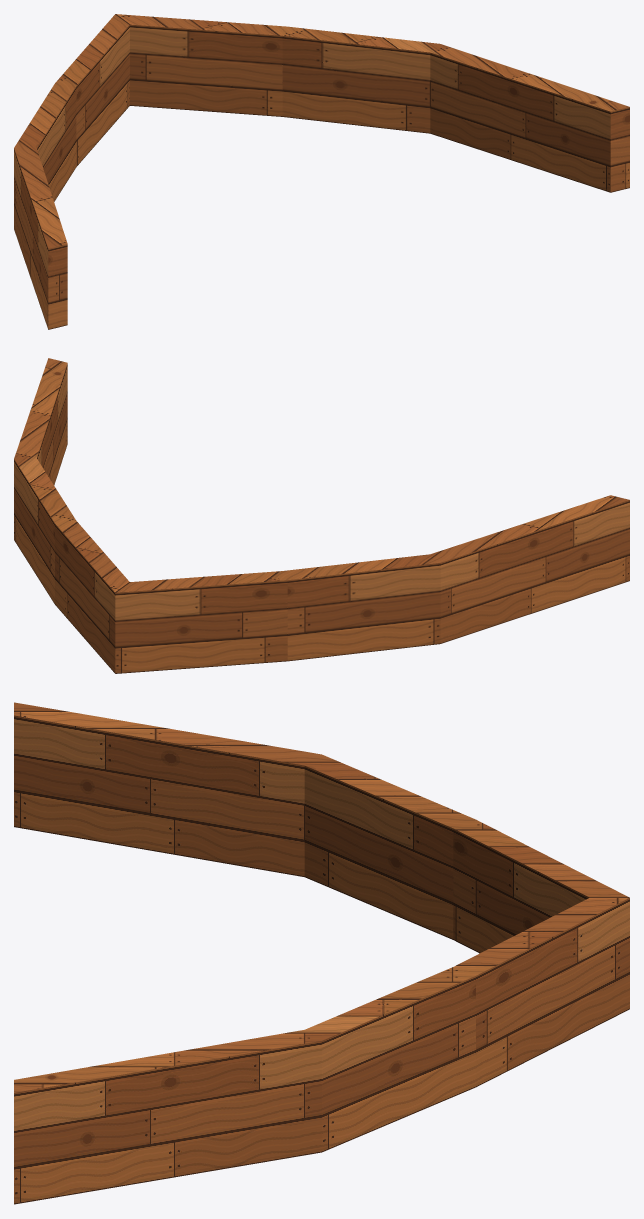
Rendered from TOP_BOW.glb.
3 views of the same model, one above another, from view 1: azimuth 30°, elevation 25°; view 2: azimuth 150°, elevation 25°; view 3: azimuth 270°, elevation 25° (orthographic). The views are drawn at different scales.
Parts seen in each view (by area): view 1: TOP_BOW; view 2: TOP_BOW; view 3: TOP_BOW.
Boxes of the visible parts, box(x1,y1,x2,y2) form: TOP_BOW: box(14, 14, 629, 329); TOP_BOW: box(14, 358, 629, 673); TOP_BOW: box(14, 702, 629, 1204).
Size of the model in its own units: 6 by 0.8 by 4.
Materials: 1 (1 with a texture image).
